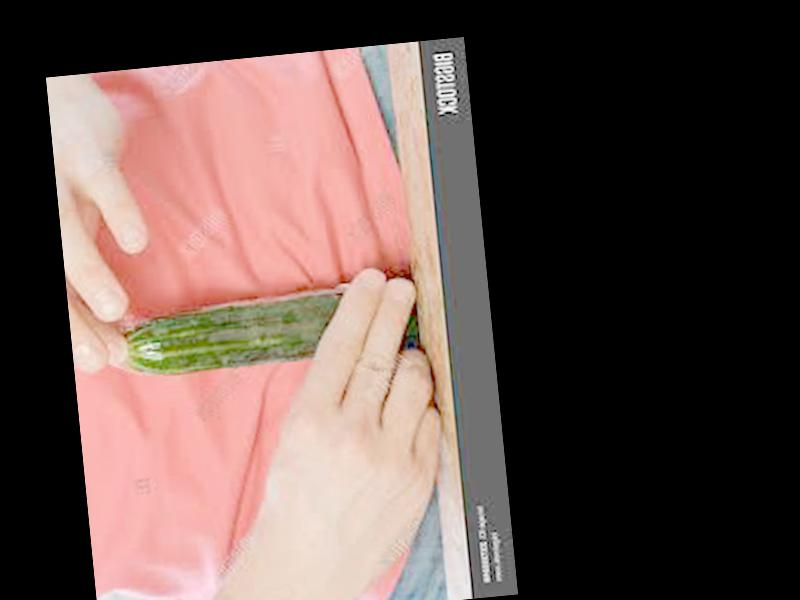Cucumber: (121, 288, 351, 380)
